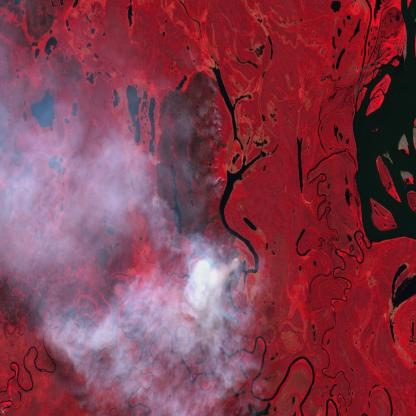fire: (205, 71, 231, 204), (210, 236, 244, 288)
